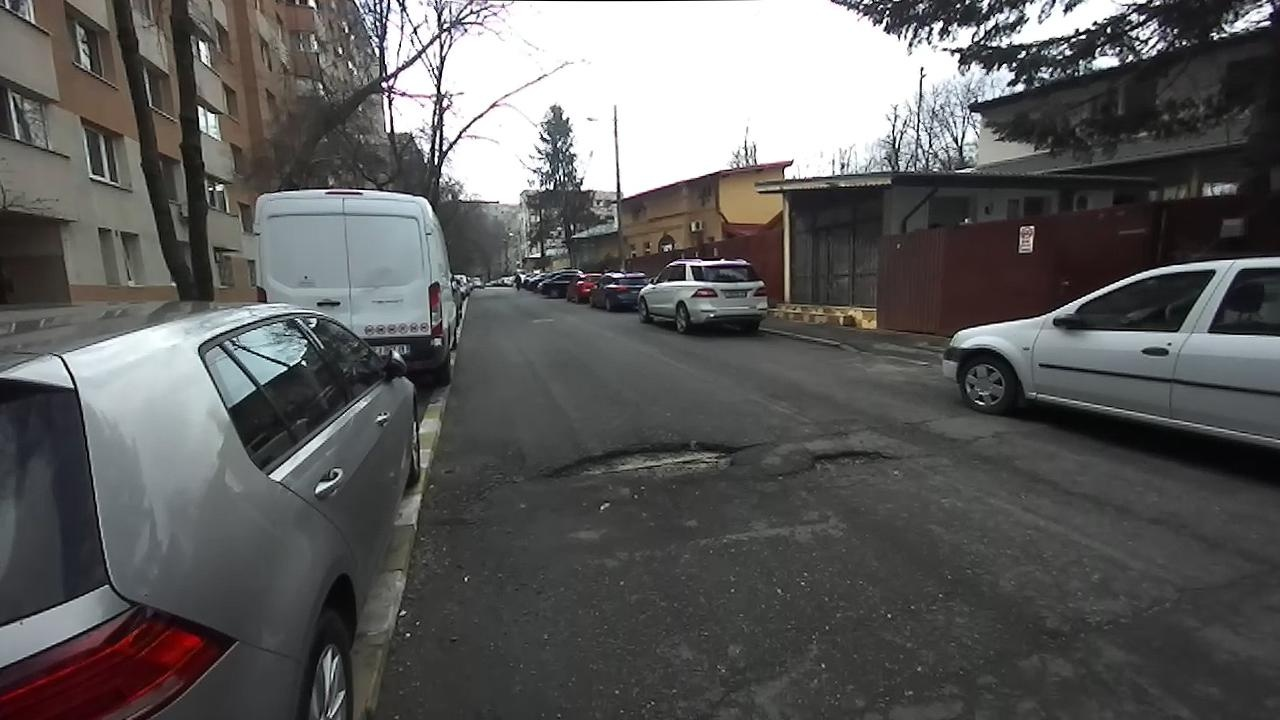pothole: (534, 437, 761, 486), (783, 443, 905, 478)
